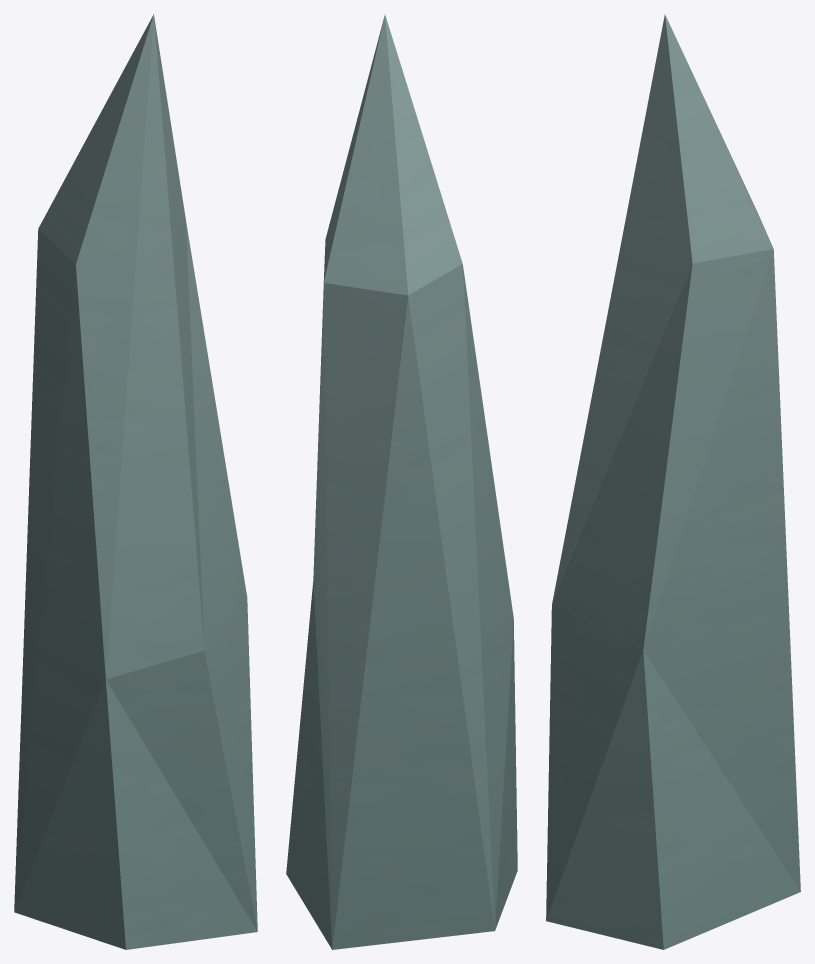
The model's file is icicle_F.obj.
3 renders of one model, left to right at view 1: azimuth 30°, elevation 25°; view 2: azimuth 150°, elevation 25°; view 3: azimuth 270°, elevation 25°, orthographic.
Parts seen in each view (by area): view 1: icicle_F; view 2: icicle_F; view 3: icicle_F.
Part boxes in pixels (bbox=[...]): icicle_F: bbox=[14, 14, 257, 949]; icicle_F: bbox=[286, 14, 517, 949]; icicle_F: bbox=[546, 14, 800, 949].
Size of the model in its own units: 0.1121 by 0.4231 by 0.1101.
